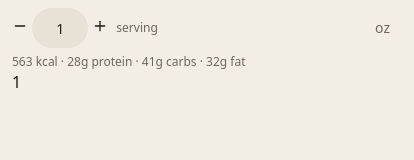
Test: ServingAmount › grams, one tap away › is read and typed in ounces for someone reading in imperial (#74)
Click the button with aria-label "Enter the amount in ounces": x=383, y=28 [363, 8, 402, 48]
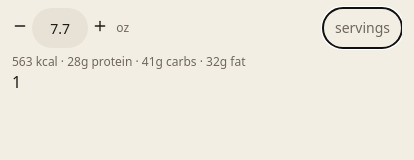
Expected: the field named "Amount in ounces" holds "7.7"
Note: Two ounces of a 219 g serving is a fraction of one, not two of them.
Replace the text in the field named "Amount in ounces" with "2": x=60, y=28 [32, 8, 88, 48]
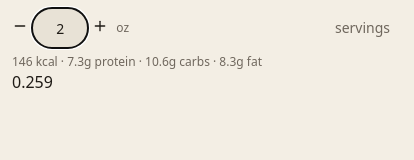
Expected: the text with test id "amount" reads "0.259", [12, 71, 53, 93]
